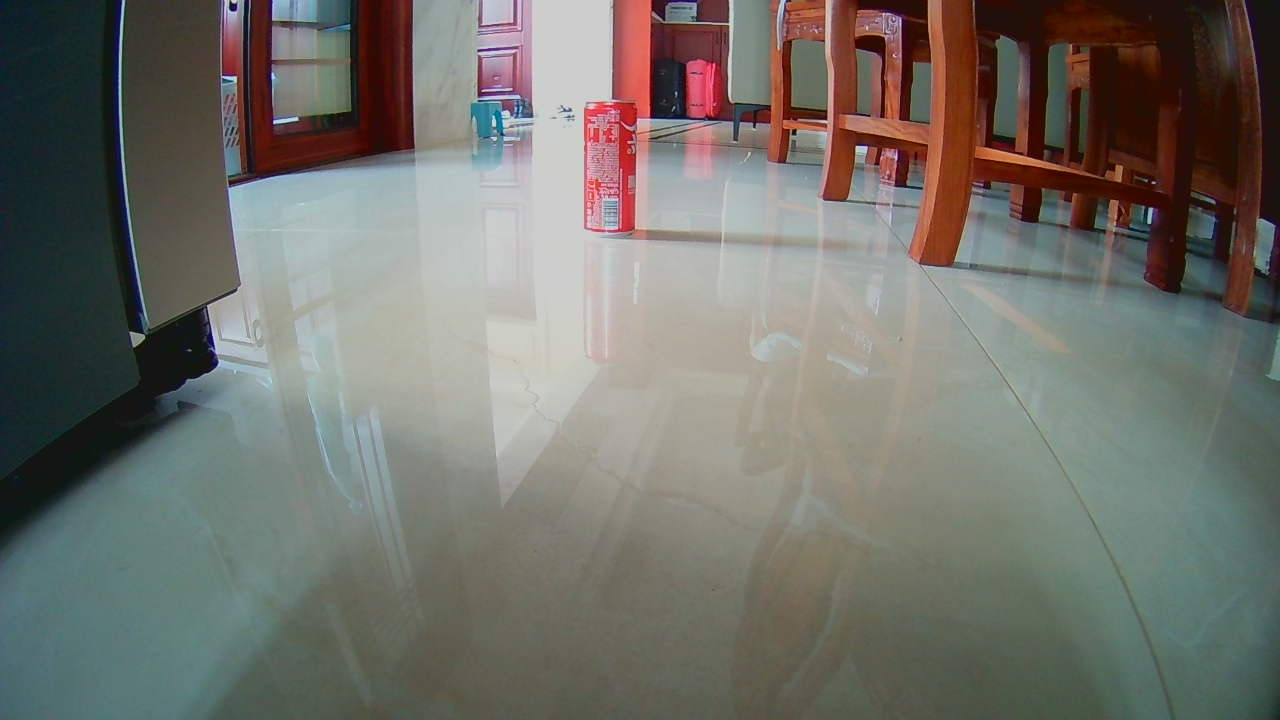cola: (582, 101, 638, 236)
